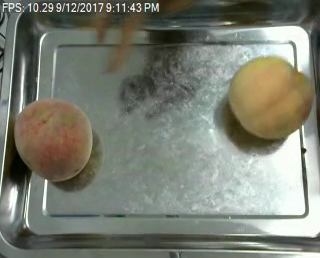Peach: (228, 54, 314, 140), (13, 97, 93, 180)
